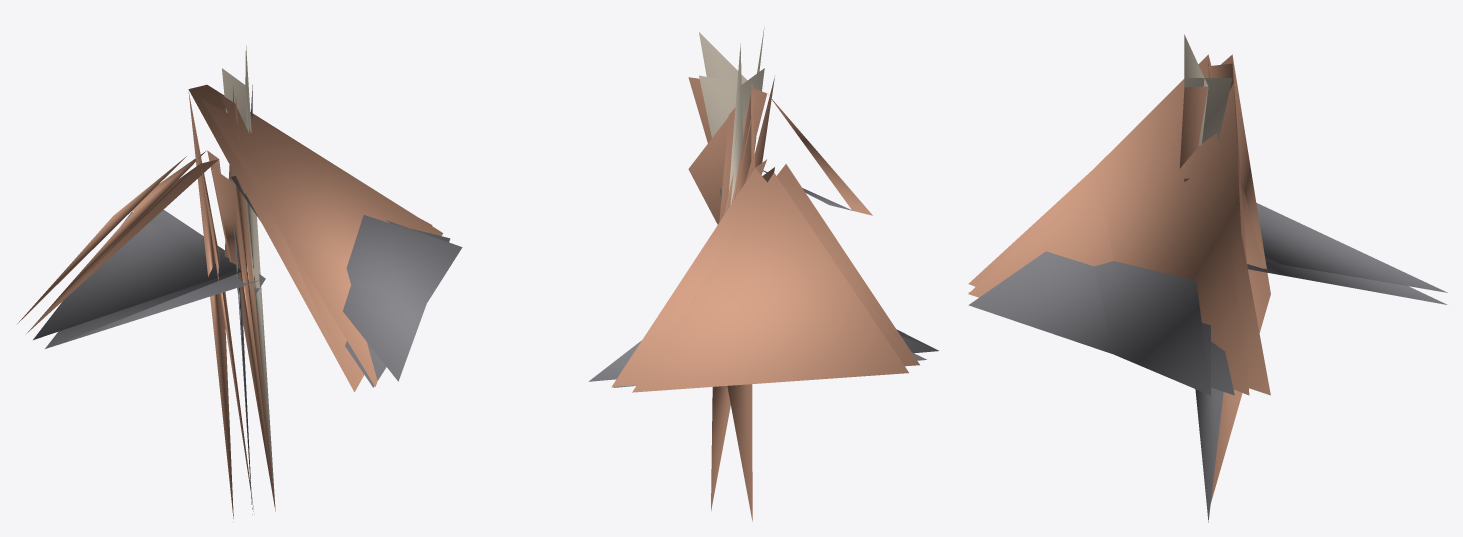
The model's file is npc_instructor_walk.glb.
3 renders of one model, left to right at view 1: azimuth 30°, elevation 25°; view 2: azimuth 150°, elevation 25°; view 3: azimuth 270°, elevation 25°, orthographic.
Parts seen in each view (by area): view 1: npc_instructor_walk; view 2: npc_instructor_walk; view 3: npc_instructor_walk.
Part boxes in pixels (x1,y1,x2,y2): npc_instructor_walk: [17, 45, 462, 518]; npc_instructor_walk: [588, 26, 938, 521]; npc_instructor_walk: [968, 34, 1447, 522].
Size of the model in its own units: 2 by 2.24 by 2.
